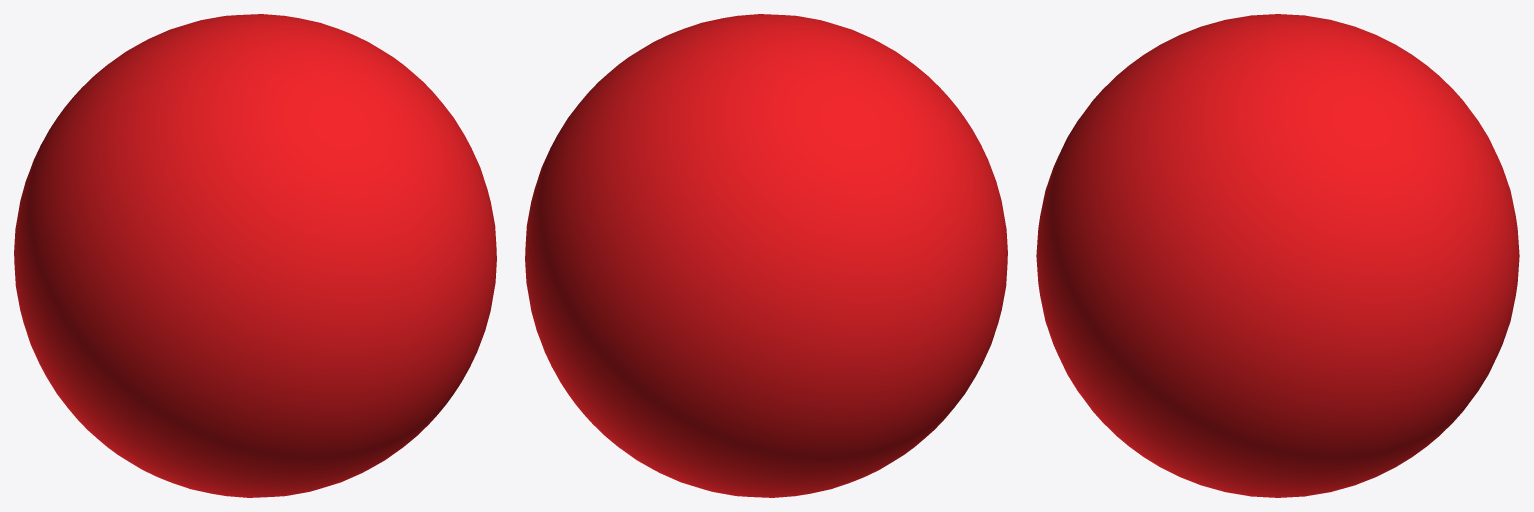
File: palla.fbx
3 renders of one model, left to right at view 1: azimuth 30°, elevation 25°; view 2: azimuth 150°, elevation 25°; view 3: azimuth 270°, elevation 25°, orthographic.
Parts seen in each view (by area): view 1: root; view 2: root; view 3: root.
Part boxes in pixels (x1,y1,x2,y2): root: [14, 14, 496, 497]; root: [525, 14, 1007, 497]; root: [1036, 14, 1519, 497].
Bounding box in the file's own units: 0.3775 × 0.3785 × 0.3775.
1 material, 1 textured.
